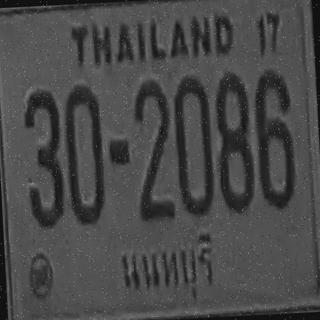N00: (63, 83, 106, 224), (172, 75, 214, 215)
N02: (133, 80, 174, 222)
N03: (22, 89, 65, 227)
N06: (252, 68, 295, 208)
N08: (213, 71, 254, 211)
P37: (114, 225, 222, 306)
